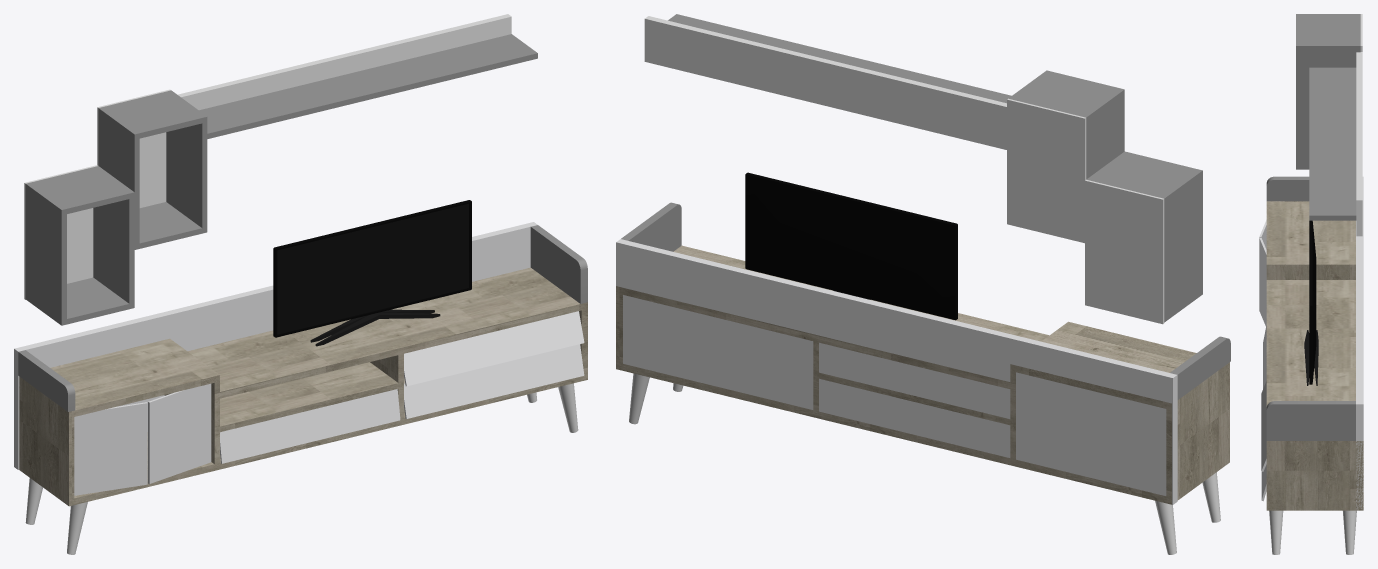
The model's file is tv_unity_1.fbx.
3 views of the same model, side by side, from view 1: azimuth 30°, elevation 25°; view 2: azimuth 150°, elevation 25°; view 3: azimuth 270°, elevation 25° (orthographic). The views are drawn at different scales.
Visible parts, largest first — view 1: Rectangle002, Box001, Rectangle011, Rectangle008, Rectangle012, Rectangle016, Rectangle015, Rectangle007, Rectangle003, Rectangle004, Rectangle005, Rectangle006 (+5 smaller); view 2: Rectangle008, Rectangle002, Box001, Rectangle015, Rectangle013, Rectangle014, Rectangle011, Rectangle012, Rectangle016, Rectangle009, Rectangle010; view 3: Rectangle002, Rectangle016, Rectangle012, Rectangle010, Rectangle008, Rectangle015, Box001, Rectangle009, Rectangle006, Cone002, Cone004, Rectangle003 (+4 smaller).
Boxes of the visible parts, <box> form: Rectangle002: <box>19,267,587,506</box>; Box001: <box>273,200,471,337</box>; Rectangle011: <box>25,166,134,325</box>; Rectangle008: <box>14,222,537,469</box>; Rectangle012: <box>98,90,207,249</box>; Rectangle016: <box>199,34,537,138</box>; Rectangle015: <box>178,14,511,110</box>; Rectangle007: <box>74,402,147,495</box>; Rectangle003: <box>404,311,584,386</box>; Rectangle004: <box>404,344,584,418</box>; Rectangle005: <box>220,389,400,463</box>; Rectangle006: <box>148,383,211,483</box>; Rectangle008: <box>616,239,1177,504</box>; Rectangle002: <box>616,245,1229,504</box>; Box001: <box>745,172,957,320</box>; Rectangle015: <box>644,16,1006,149</box>; Rectangle013: <box>1085,179,1164,324</box>; Rectangle014: <box>1007,98,1086,243</box>; Rectangle011: <box>1086,151,1202,322</box>; Rectangle012: <box>1008,70,1124,179</box>; Rectangle016: <box>668,14,1011,103</box>; Rectangle009: <box>1170,336,1230,399</box>; Rectangle010: <box>621,202,681,251</box>; Rectangle002: <box>1266,201,1363,510</box>; Rectangle016: <box>1309,67,1356,220</box>; Rectangle012: <box>1296,14,1360,149</box>; Rectangle010: <box>1266,401,1355,440</box>; Rectangle008: <box>1356,176,1363,510</box>; Rectangle015: <box>1356,52,1362,236</box>; Box001: <box>1309,220,1316,384</box>; Rectangle009: <box>1266,176,1309,201</box>; Rectangle006: <box>1259,237,1266,326</box>; Cone002: <box>1269,510,1283,554</box>; Cone004: <box>1343,510,1356,554</box>; Rectangle003: <box>1261,381,1266,471</box>.
Bounding box in the file's own units: 98.37 × 71.15 × 19.06.
Materials: 7 (1 with a texture image).
